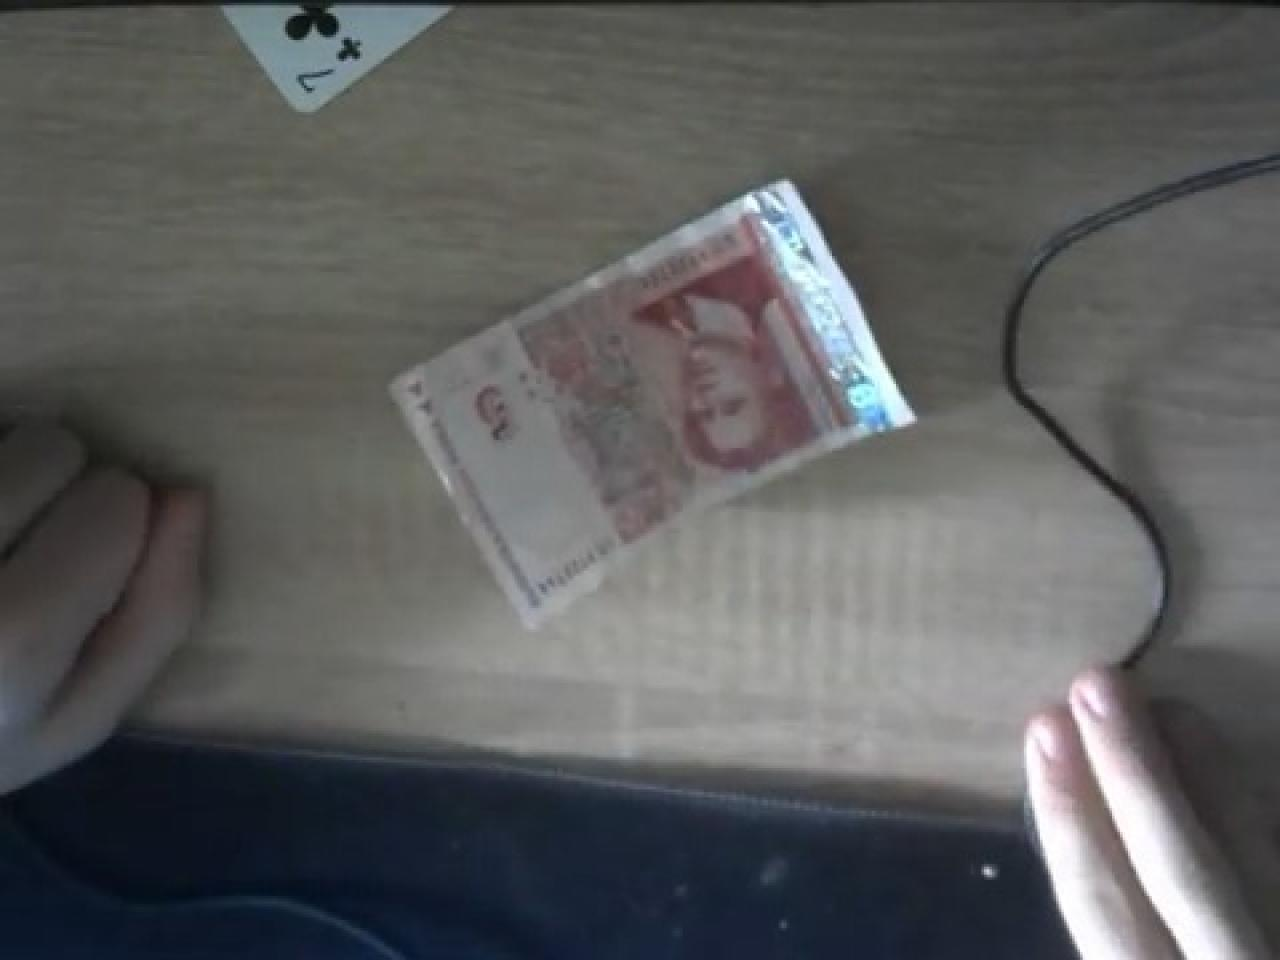5leva: (389, 176, 920, 626)
